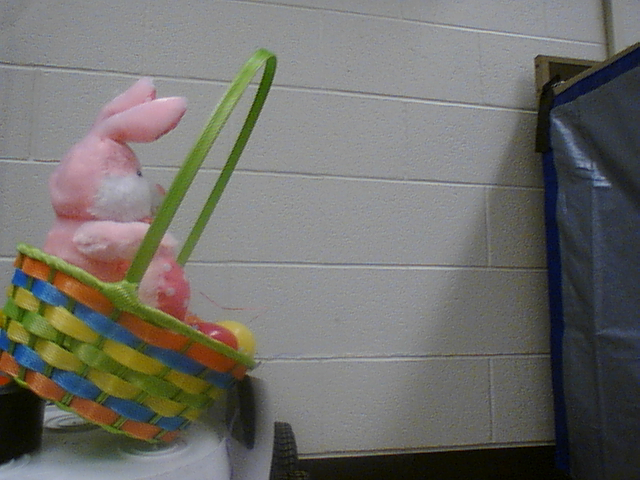bunny: (1, 44, 287, 452)
